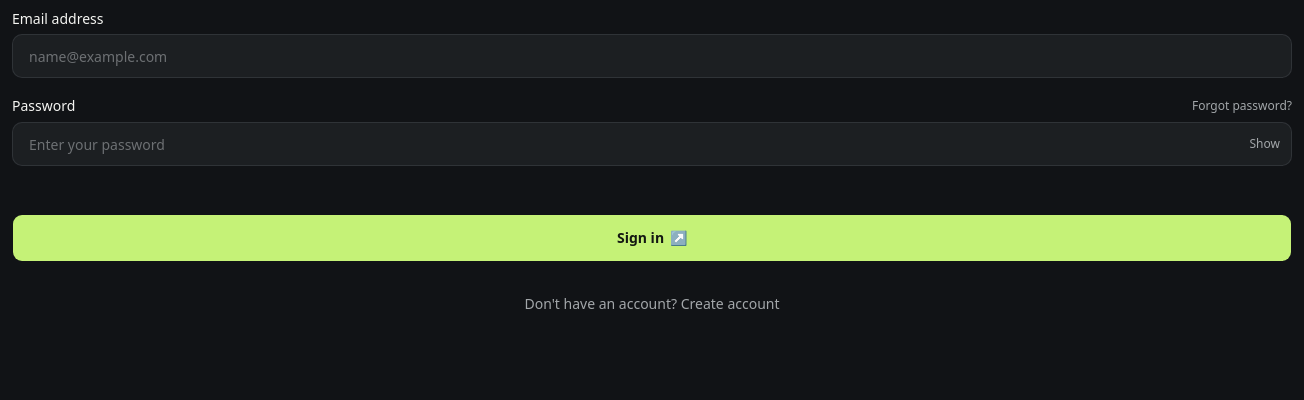
Test: LoginForm › clears stale login error when Create account is clicked
The width and height of the screenshot is (1304, 400).
Type "user@example.com" into the field labelled "Email address" at (652, 56), box [12, 34, 1292, 78]
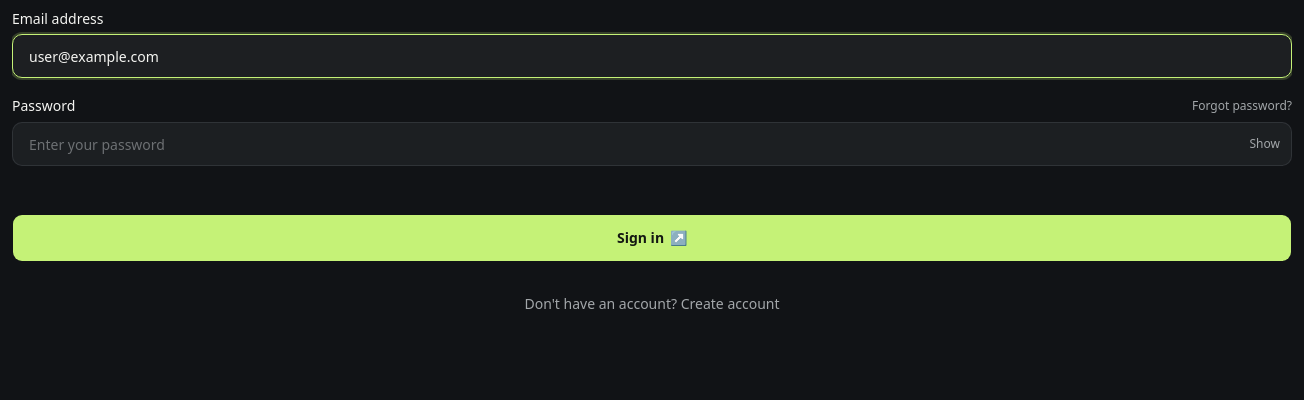
Type "Password123" into the password field labelled "Password" at (652, 144), box [12, 122, 1292, 166]
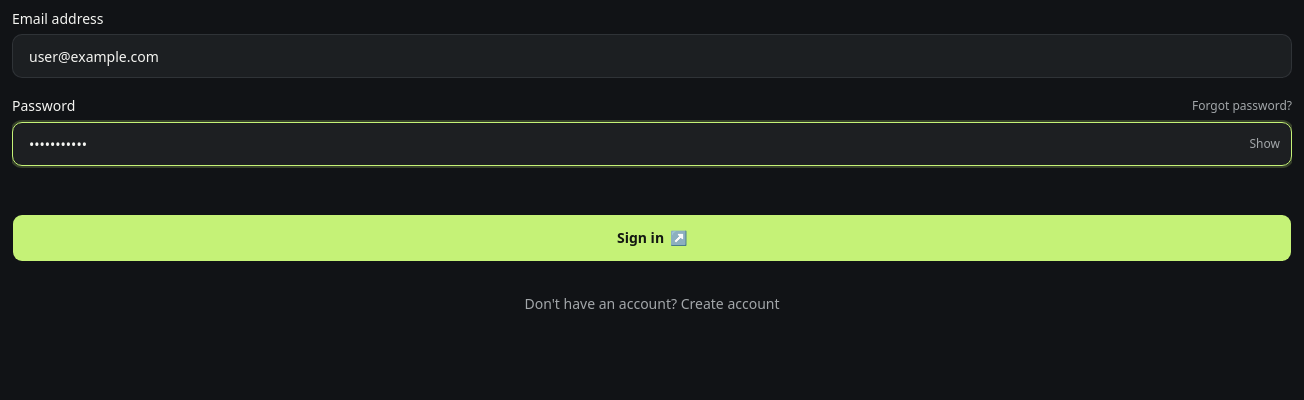
Click the button "Sign in ↗" at (652, 238), box [12, 214, 1292, 262]
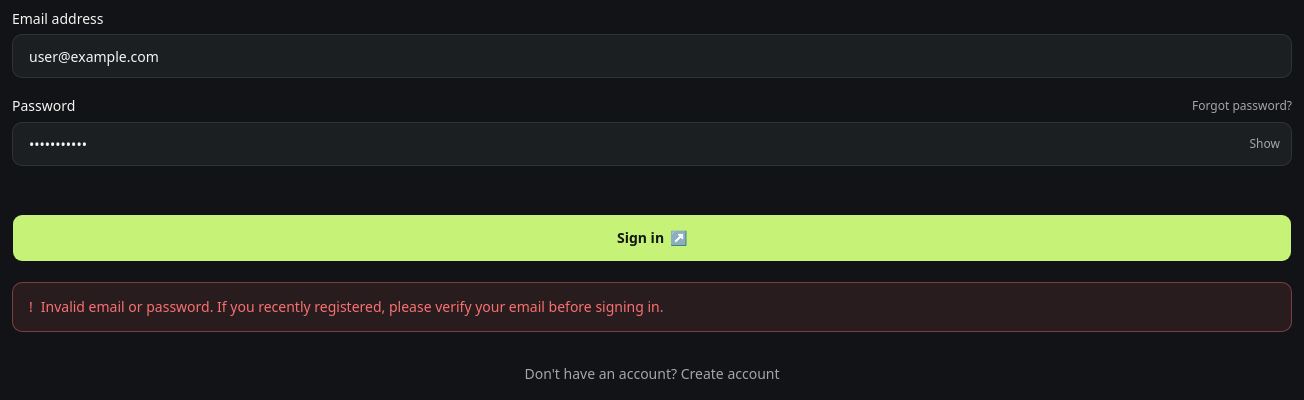
Check: the text "Invalid email or password. If you recently registered, please verify your email before signing in." is shown, box [41, 297, 664, 316]
Click the link "Create account" at (730, 374), box [681, 364, 780, 383]
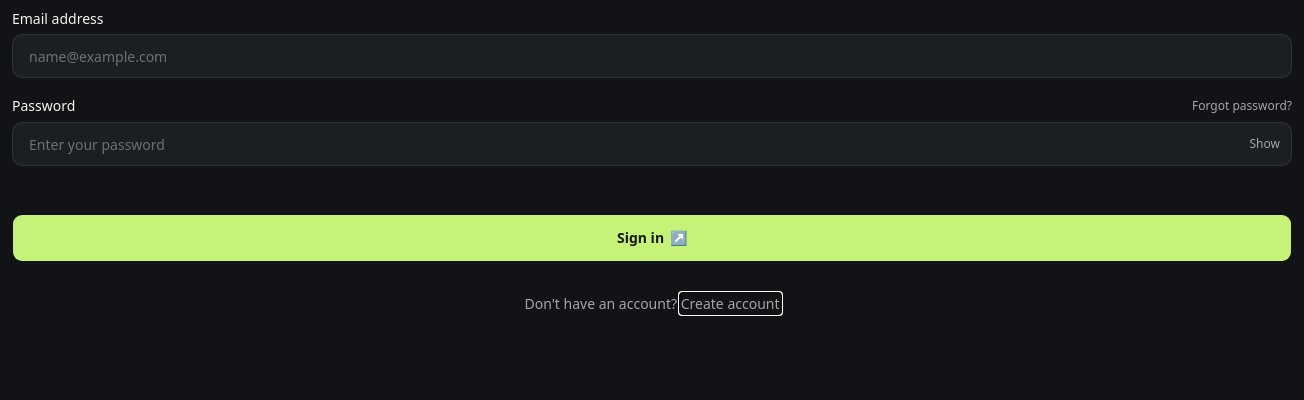
Check: the text "Invalid email or password. If you recently registered, please verify your email before signing in." is gone
Check: the field labelled "Email address" is empty, box [12, 34, 1292, 78]
Check: the password field labelled "Password" is empty, box [12, 122, 1292, 166]
